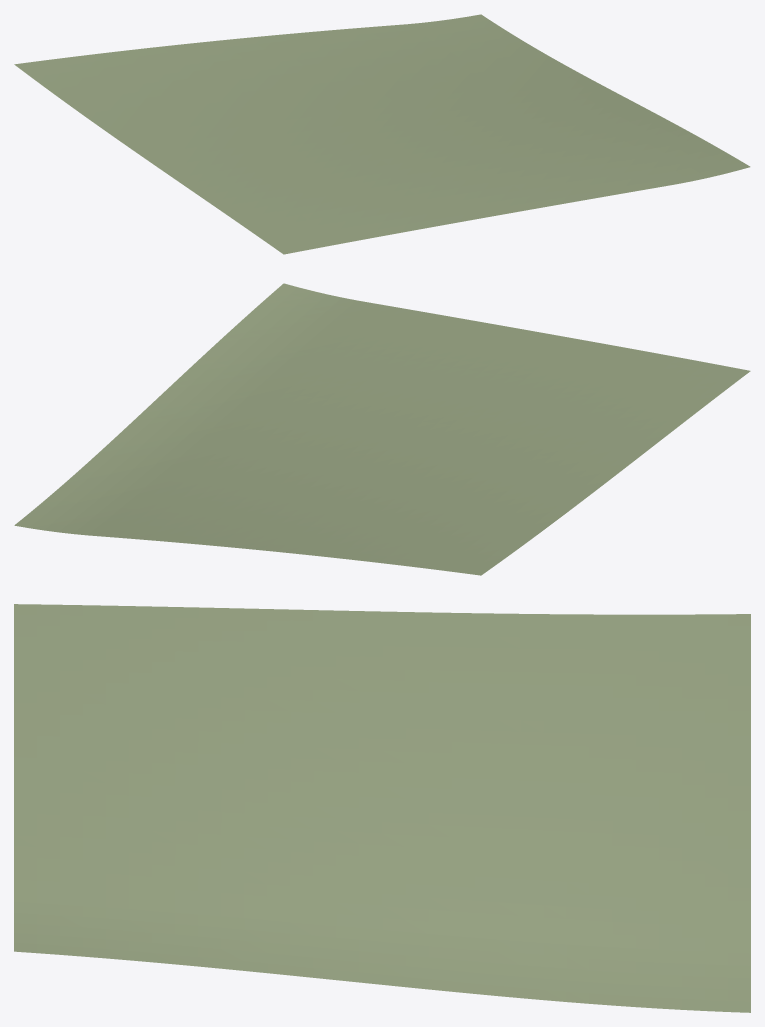
The model's file is expanse-23-16.glb.
3 renders of one model, top to bottom at view 1: azimuth 30°, elevation 25°; view 2: azimuth 150°, elevation 25°; view 3: azimuth 270°, elevation 25°, orthographic. The views are drawn at different scales.
Parts seen in each view (by area): view 1: expanse-23-16; view 2: expanse-23-16; view 3: expanse-23-16.
Part boxes in pixels (x1,y1,x2,y2): expanse-23-16: (14, 14, 750, 254); expanse-23-16: (14, 283, 750, 575); expanse-23-16: (14, 604, 750, 1012).
Size of the model in its own units: 256 by 37.3 by 256.
